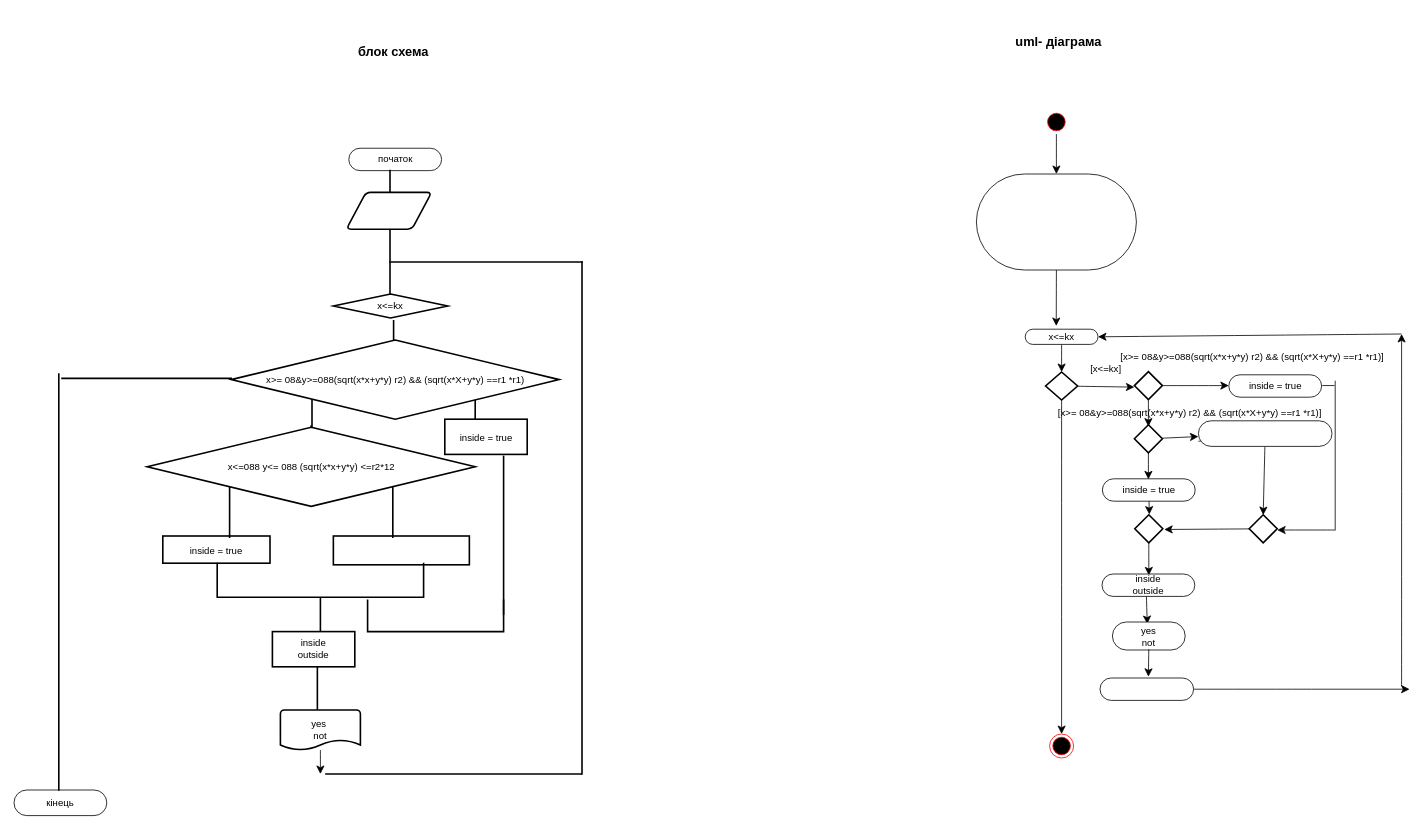
The diagram is 1423 pixels wide and 830 high, and some of its shapes have lost their labels. Each missing label, with the centre of its shape:
"outside = false" goes at point (401, 550).
"outside=false" goes at point (1265, 433).
"x y r1 r2 xp xk xd" goes at point (1056, 221).
"x+dx" goes at point (1146, 688).
"xp xk xd" goes at point (388, 210).
